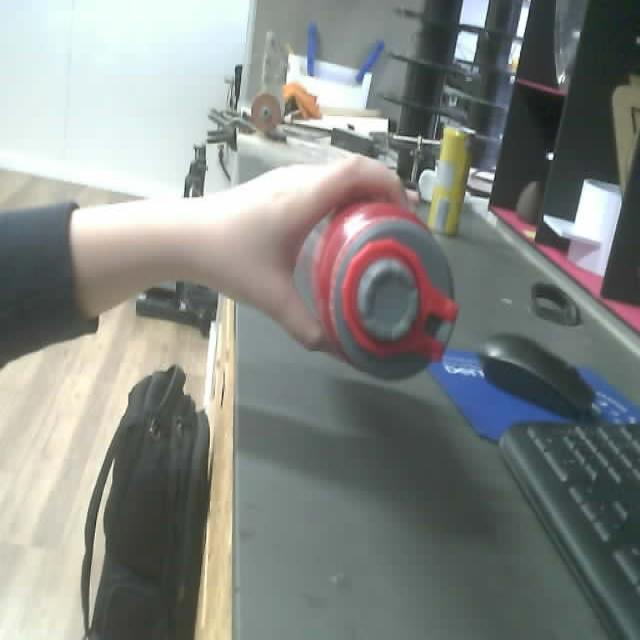water bottle: (289, 200, 457, 385)
